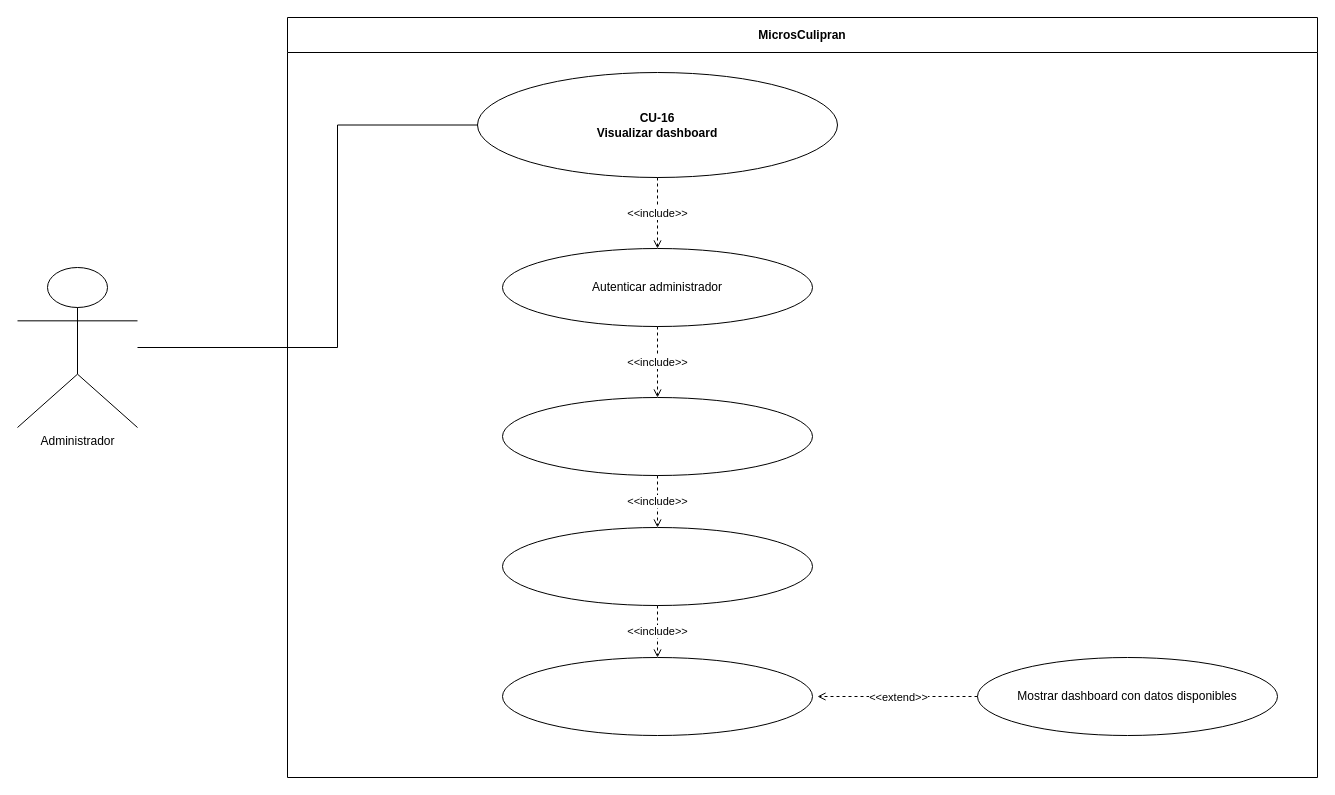
This 1335x795 diagram has some shape labels left out. The centre of each missing label's shape, as x and y in pixels:
Consultar datos operacionales: (657,436)
Mostrar dashboard: (657,696)
Procesar indicadores: (657,566)
